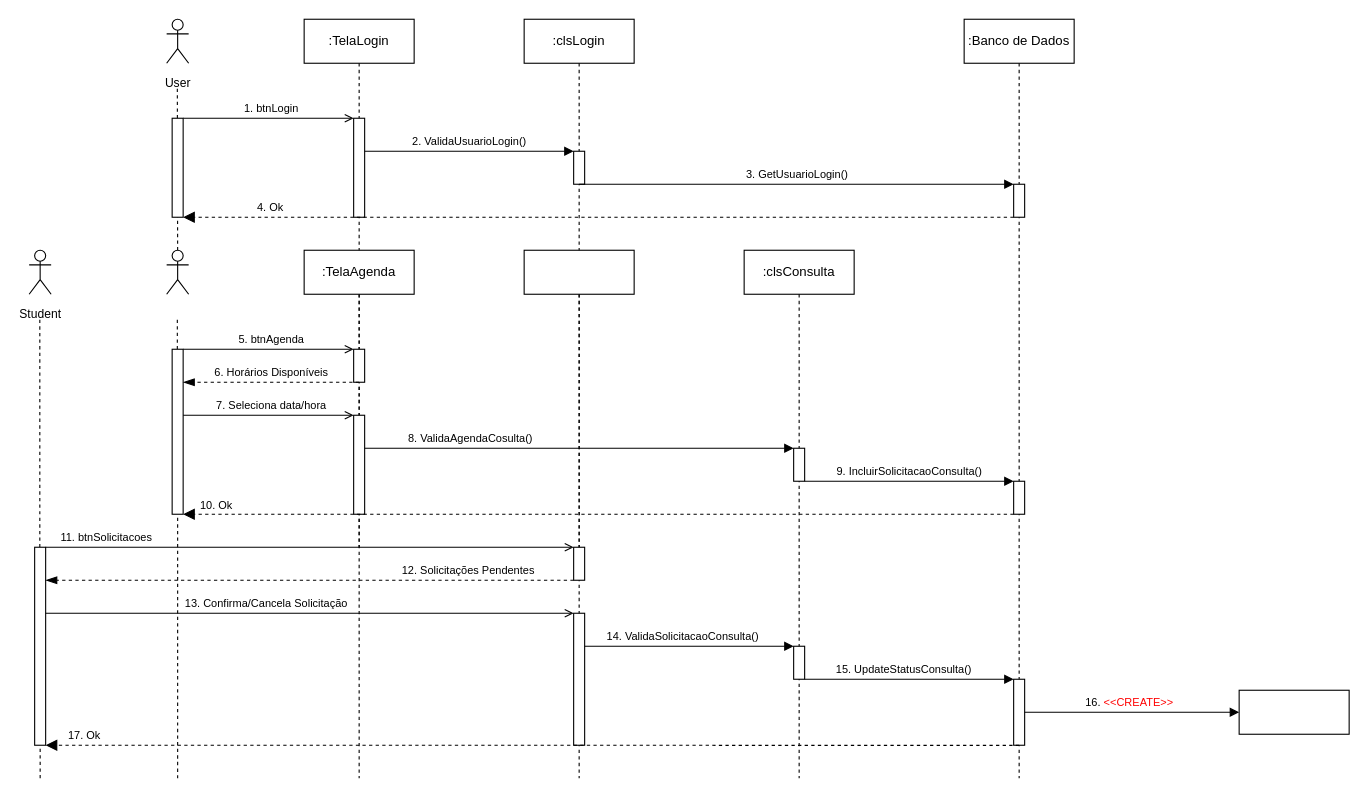
Image size: 1368x799. Some labels were removed from this diagram. The shapes that lost their labels are listed below. From the top down, each one's centre as x and y in pixels, then its label:
the point at 177,271: Patient
the point at 578,513: :TelaSolicitacoes
the point at 1293,711: Email
